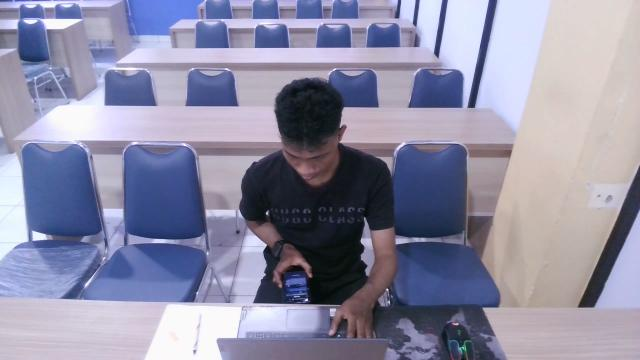Head_Down_Extreme: (230, 70, 405, 336)
Mobile_Phone: (277, 267, 312, 304)
